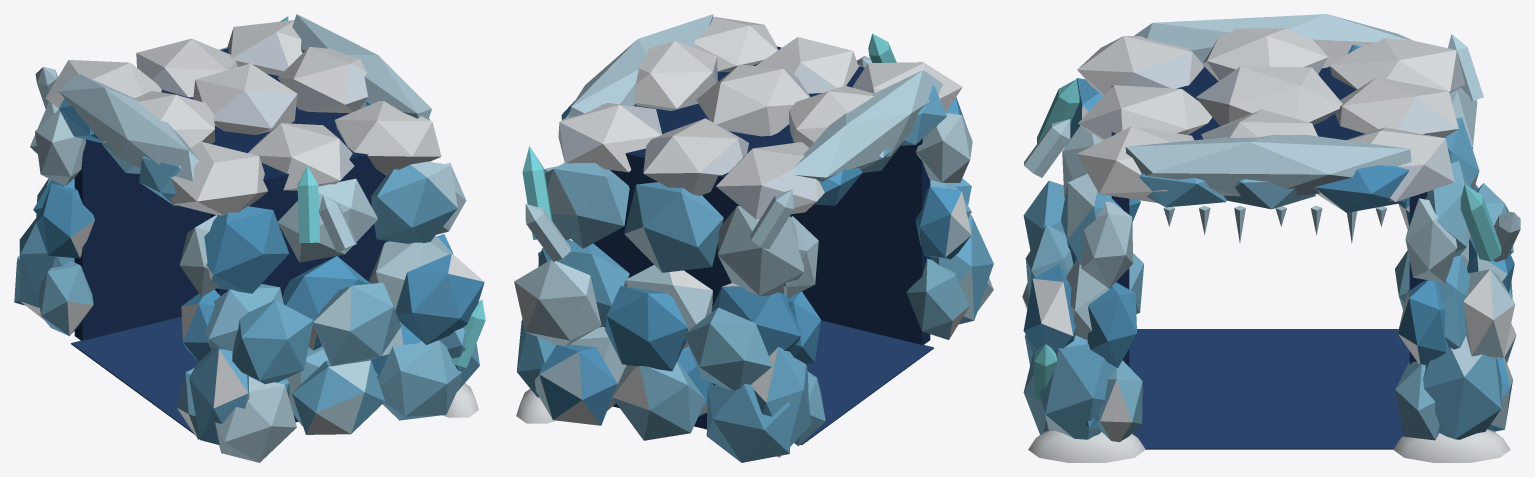
File: ice-cave.glb
3 renders of one model, left to right at view 1: azimuth 30°, elevation 25°; view 2: azimuth 150°, elevation 25°; view 3: azimuth 270°, elevation 25°, orthographic. The views are drawn at different scales.
Parts seen in each view (by area): view 1: ice-cave; view 2: ice-cave; view 3: ice-cave.
Boxes of the visible parts, x1,y1,x2,y2 form: ice-cave: (14,14,485,462); ice-cave: (514,14,993,462); ice-cave: (1022,14,1520,462).
Bounding box in the file's own units: 3.02 × 3 × 4.23.
